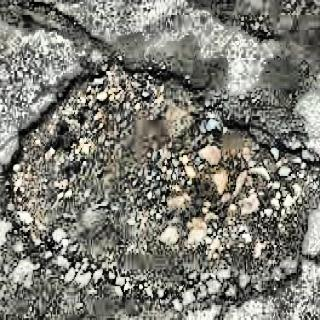pothole: (11, 39, 315, 320)
